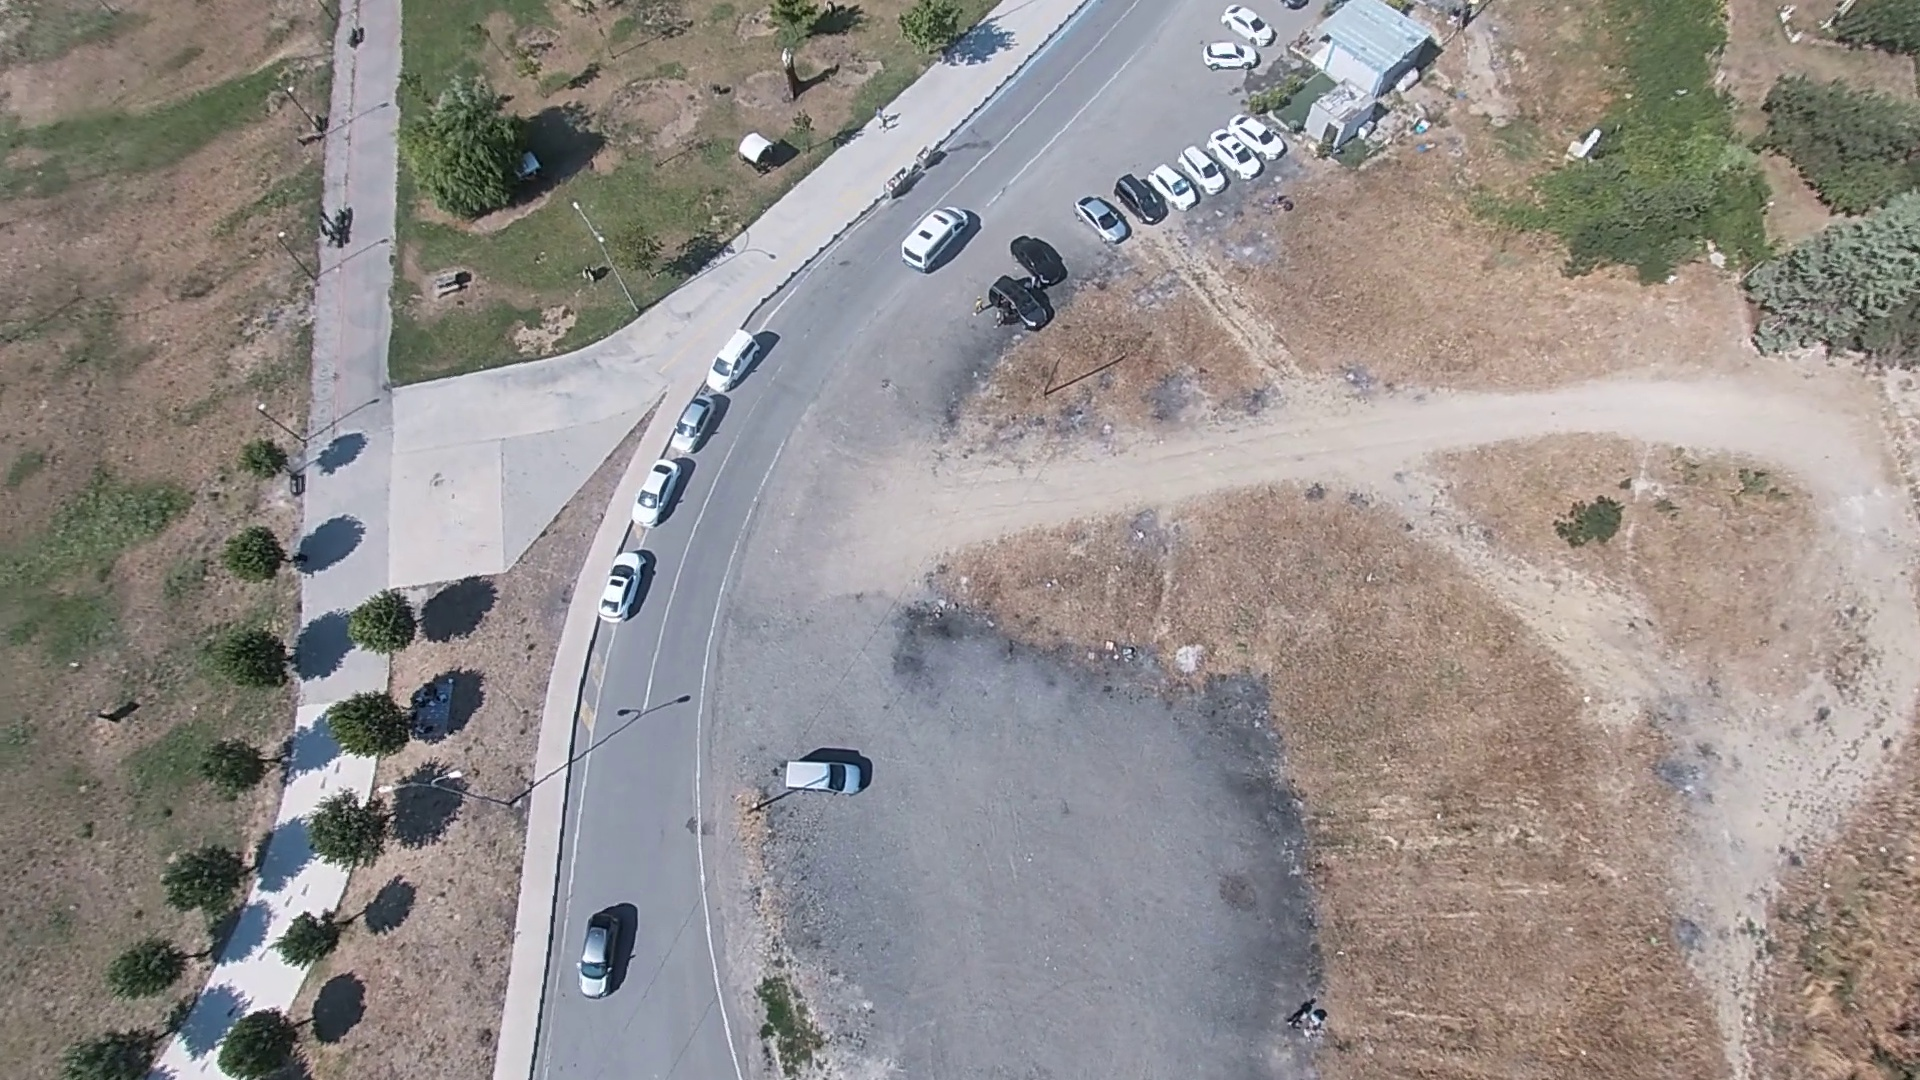arac: (621, 330, 770, 539), (573, 903, 641, 996), (899, 200, 979, 272), (592, 544, 654, 628), (1074, 193, 1130, 241), (741, 130, 794, 174), (1200, 38, 1251, 69)
insan: (504, 145, 543, 187), (1279, 1001, 1324, 1036), (435, 267, 474, 299)
